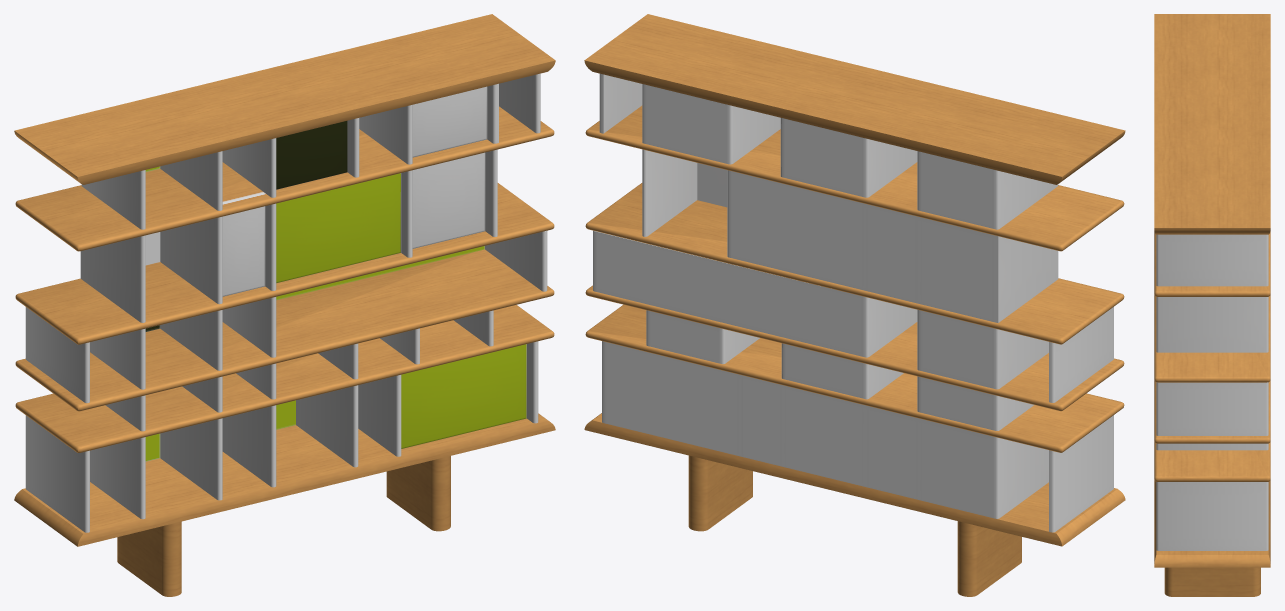
Rendered from odadolap.fbx.
The picture shows the model from 3 angles, left to right: view 1: azimuth 30°, elevation 25°; view 2: azimuth 150°, elevation 25°; view 3: azimuth 270°, elevation 25°; orthographic projection. The views are drawn at different scales.
Parts seen in each view (by area): view 1: 1960s Deco Shelving; view 2: 1960s Deco Shelving; view 3: 1960s Deco Shelving.
Part boxes in pixels (x1,y1,x2,y2): 1960s Deco Shelving: (14,14,555,596); 1960s Deco Shelving: (584,14,1125,596); 1960s Deco Shelving: (1154,14,1270,596).
Size of the model in its own units: 203 by 182 by 46.59.
1 material, 1 textured.
